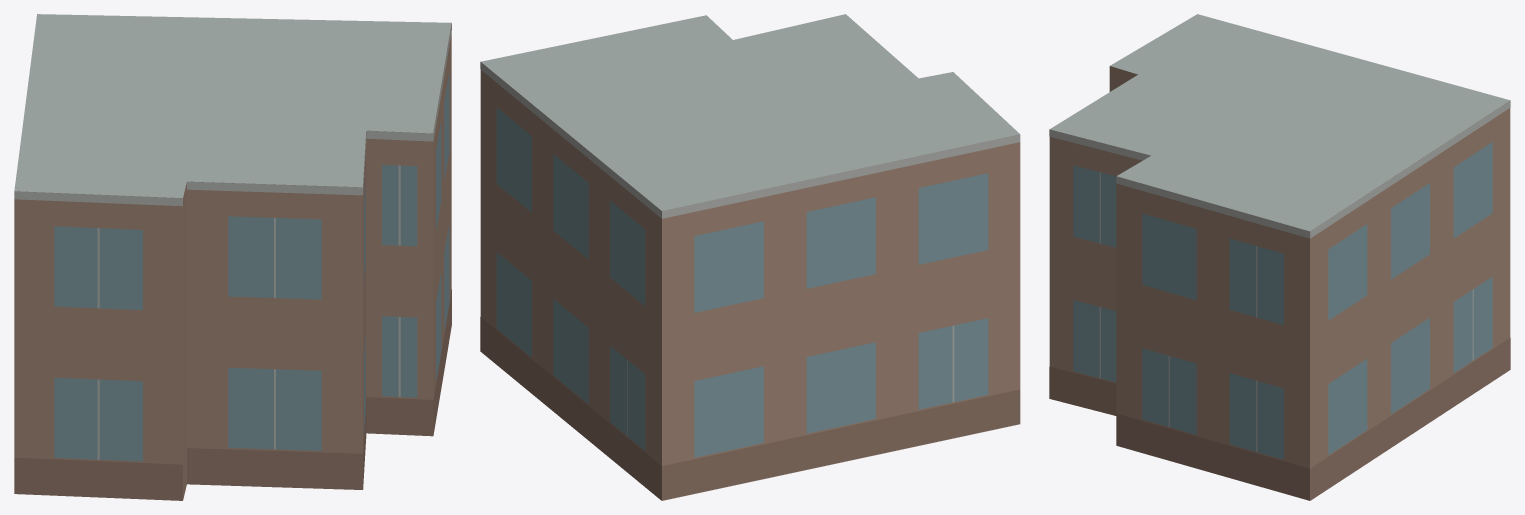
Rendered from survey-upis-32822391.glb.
The picture shows the model from 3 angles, left to right: view 1: azimuth 30°, elevation 25°; view 2: azimuth 150°, elevation 25°; view 3: azimuth 270°, elevation 25°; orthographic projection. The views are drawn at different scales.
Parts seen in each view (by area): view 1: survey-upis-32822391.tmp; view 2: survey-upis-32822391.tmp; view 3: survey-upis-32822391.tmp.
Part boxes in pixels (x1,y1,x2,y2): survey-upis-32822391.tmp: (14, 14, 451, 500); survey-upis-32822391.tmp: (480, 14, 1020, 500); survey-upis-32822391.tmp: (1049, 14, 1510, 500).
Bounding box in the file's own units: 15.76 × 9.1 × 14.12.
